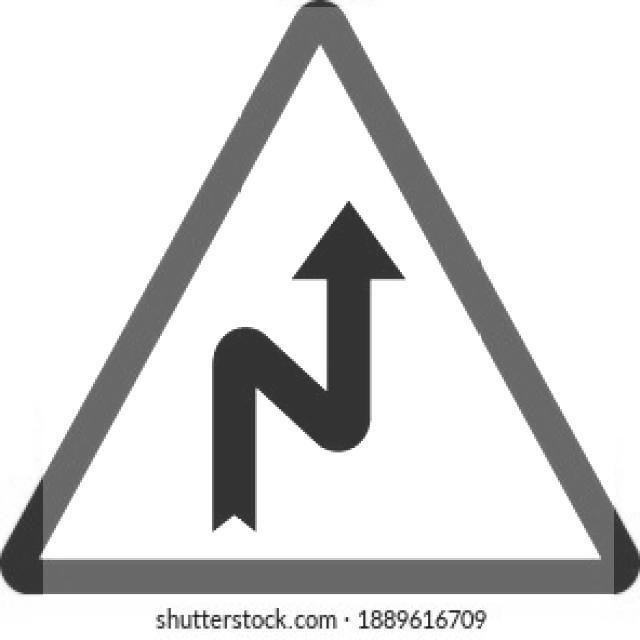right reverse bend: (33, 40, 609, 567)
